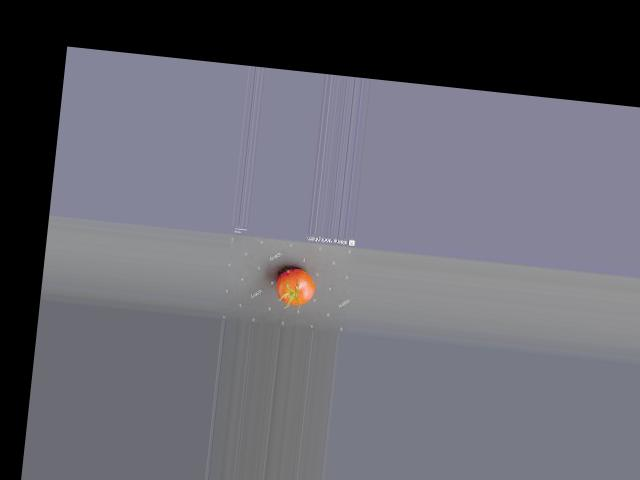tomato: (273, 268, 316, 307)
